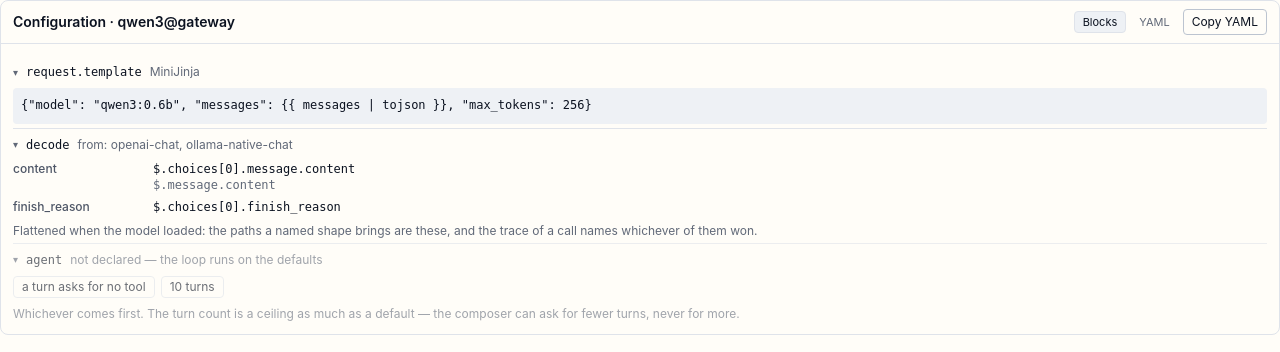
it: ModelConfig › hands over the file to paste
Click the tab "YAML" at coordinates (1154, 22), box [1130,11,1179,33]
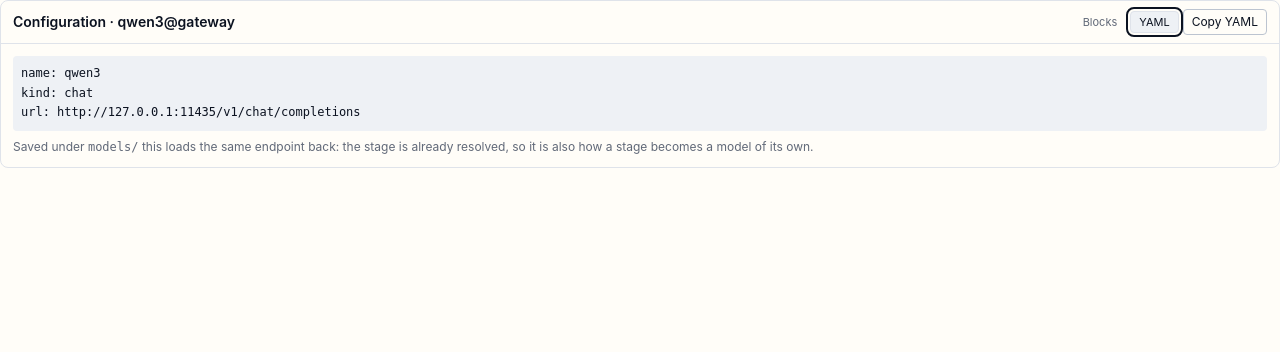
Expected: the button "Copy YAML" is shown, [1183,9,1267,35]
Result: the text "url: http://127.0.0.1:11435" is shown at [21,66,361,119]
